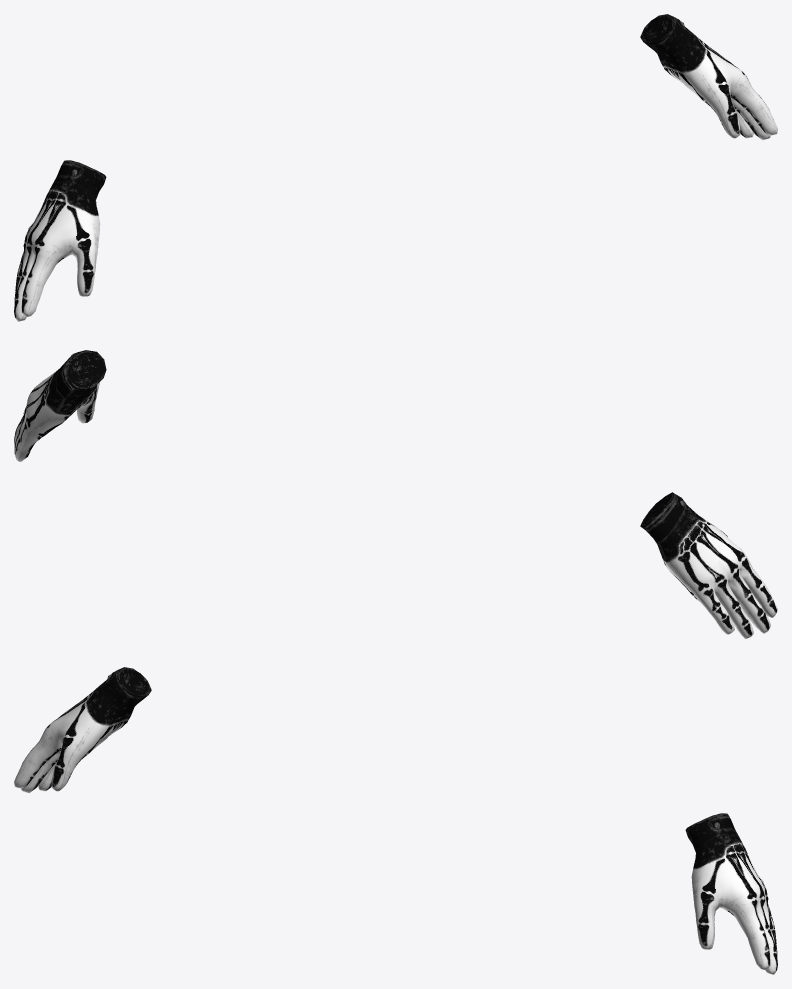
Rendered from SurvivorMale_Hands_Gloves_BonePrinting_Viking_LOD0.glb.
3 views of the same model, one above another, from view 1: azimuth 30°, elevation 25°; view 2: azimuth 150°, elevation 25°; view 3: azimuth 330°, elevation 25° (orthographic).
Visible parts, largest first — view 1: Hoodie; view 2: Hoodie; view 3: Hoodie.
Boxes of the visible parts, x1=… form: Hoodie: x1=14, y1=14, x2=777, y2=321; Hoodie: x1=14, y1=350, x2=777, y2=638; Hoodie: x1=14, y1=667, x2=777, y2=974.
Bounding box in the file's own units: 1.34 × 0.2215 × 0.1669.
1 material, 1 textured.
